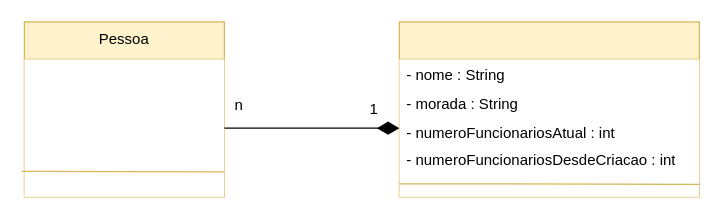
The diagram is 723 pixels wide and 223 high, and some of its shapes have lost their labels. The box of each missing label's shape, as (x1, y1, x2, y2) in pixels:
- nome : String - idade : int - email : Sring: (24, 59, 224, 196)
Empresa: (398, 21, 699, 197)
